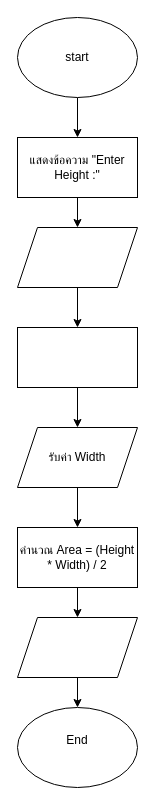
The diagram is 155 pixels wide and 805 high, and some of its shapes have lost their labels. The shapes that lost their labels are listed below. From the top down, each one's centre as x and y in pixels, then its label:
point 77,257: รับค่า Height
point 77,357: แสดงข้อความ "Enter Width :"
point 77,647: แสดงผล "Area is ..."
